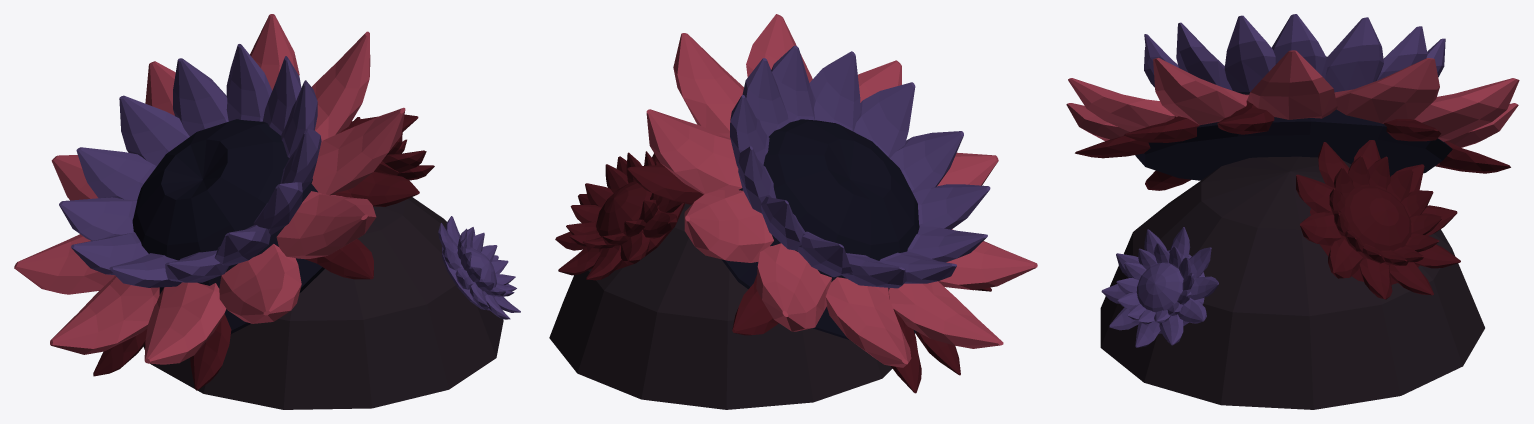
The model's file is AlienFlower_A.FBX.
3 views of the same model, side by side, from view 1: azimuth 30°, elevation 25°; view 2: azimuth 150°, elevation 25°; view 3: azimuth 270°, elevation 25° (orthographic). The views are drawn at different scales.
Parts seen in each view (by area): view 1: AlienCoral_FlowerA; view 2: AlienCoral_FlowerA; view 3: AlienCoral_FlowerA.
Boxes of the visible parts, left/top/right/bottom form: AlienCoral_FlowerA: left=14, top=14, right=520, bottom=409; AlienCoral_FlowerA: left=549, top=14, right=1037, bottom=409; AlienCoral_FlowerA: left=1066, top=14, right=1519, bottom=409.
Bounding box in the file's own units: 110 × 70.27 × 95.35.
